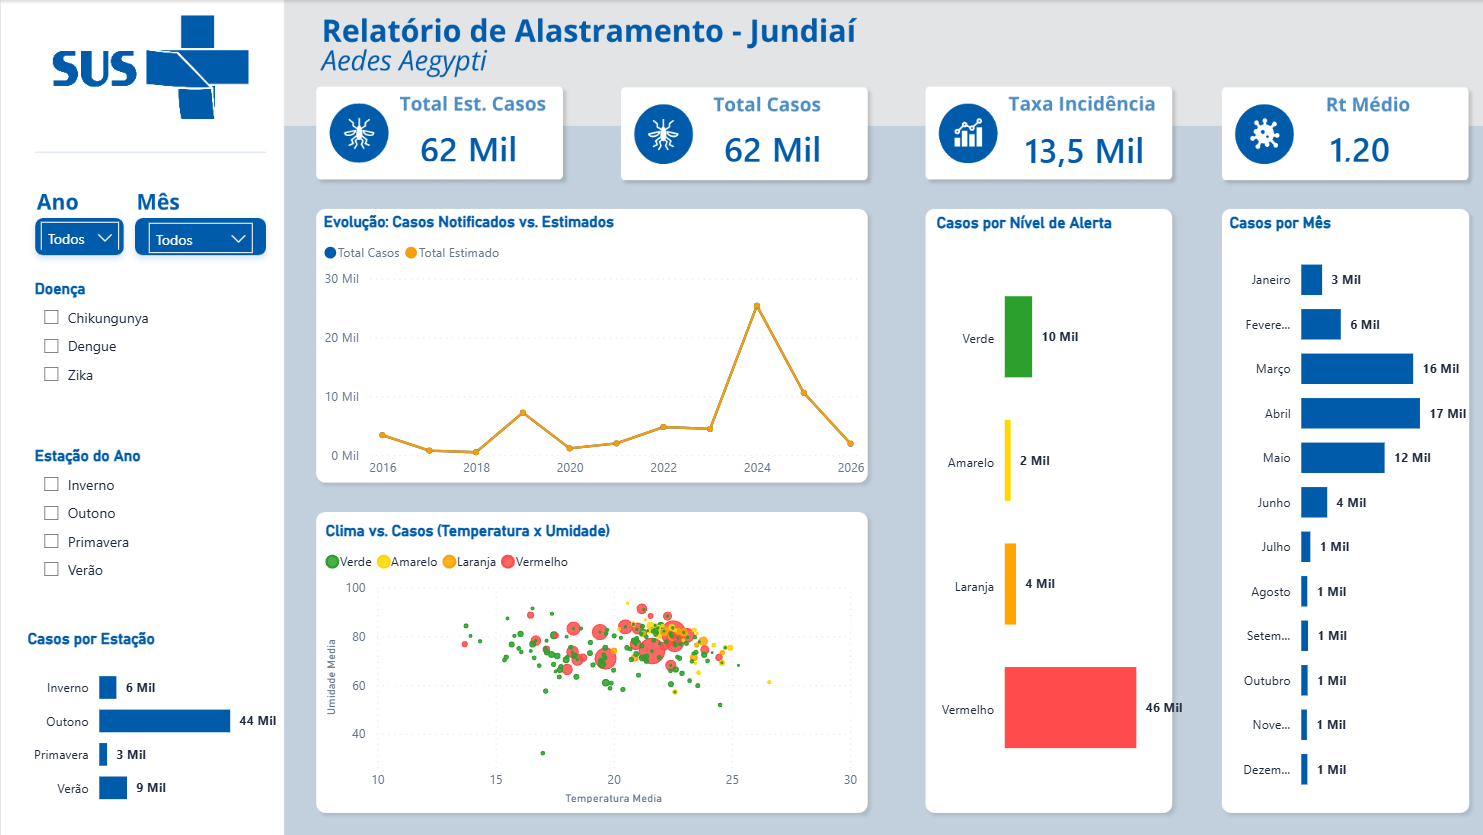

This screenshot's page, from the dashboard's own definition file:
{"tool":"powerbi","page":{"name":"Página 1","canvas":[1280,720],"ordinal":0},"visuals":[{"type":"cardVisual","fields":{"Data":["_Medidas.Total Estimado"]},"box":[328.8,94.2,150.3,61.6],"z":1000},{"type":"cardVisual","fields":{"Data":["_Medidas.Total Casos"]},"box":[588.7,93.3,150.3,62.5],"z":2000},{"type":"cardVisual","fields":{"Data":["_Medidas.Taxa Incidencia 100k"]},"box":[857.7,97.8,144,54.3],"z":3000},{"type":"cardVisual","fields":{"Data":["_Medidas.Rt Medio"]},"box":[1105.8,93.3,150.3,62.5],"z":4000},{"type":"slicer","fields":{"Values":["dim_tempo.ano"]},"box":[23.5,179.3,86.9,33.5],"z":5000},{"type":"slicer","fields":{"Values":["dim_tempo.nome_mes"]},"box":[115.9,180.2,108.7,38],"z":5500},{"type":"slicer","title":"Doença","fields":{"Values":["dim_doenca.nome_doenca"]},"box":[23.5,239.1,185.7,125.9],"z":5800},{"type":"slicer","title":"Estação do Ano","fields":{"Values":["dim_tempo.estacao_ano"]},"box":[23.5,382,185.7,142],"z":5900},{"type":"lineChart","title":"Evolução: Casos Notificados vs. Estimados","fields":{"Category":["dim_tempo.data_inicio_semana.Variation.Hierarquia de datas.Ano","dim_tempo.data_inicio_semana.Variation.Hierarquia de datas.Trimestre","dim_tempo.data_inicio_semana.Variation.Hierarquia de datas.Mês","dim_tempo.data_inicio_semana.Variation.Hierarquia de datas.Dia"],"Y":["_Medidas.Total Casos","_Medidas.Total Estimado"]},"box":[270.8,182,471.8,235.5],"z":6000},{"type":"scatterChart","title":"Clima vs. Casos (Temperatura x Umidade)","fields":{"Category":["dim_tempo.ano_mes"],"Series":["dim_alerta.status_alerta_nome"],"Size":["_Medidas.Total Casos"],"X":["_Medidas.Temperatura Media"],"Y":["_Medidas.Umidade Media"]},"box":[272.6,445.6,463.7,245.4],"z":7000},{"type":"barChart","title":"Casos por Nível de Alerta","fields":{"Category":["dim_alerta.status_alerta_nome"],"Y":["_Medidas.Total Casos"]},"box":[794.3,182.9,220.1,508.1],"z":8000},{"type":"barChart","title":"Casos por Mês","fields":{"Category":["dim_tempo.nome_mes"],"Y":["_Medidas.Total Casos"]},"box":[1044.2,182.9,211.9,508.1],"z":9000},{"type":"barChart","title":"Casos por Estação","fields":{"Category":["dim_tempo.estacao_ano"],"Y":["_Medidas.Total Casos"]},"box":[18.1,538,222.8,162.1],"z":9500}]}

Visuals, with their boxes in screenshot pixels (x1, y1, x2, y2), scaled from the page's 1280x720 canvas onto the 1483x835 screenshot:
cardVisual - _Medidas.Total Estimado: {"left": 381, "top": 109, "right": 555, "bottom": 181}
cardVisual - _Medidas.Total Casos: {"left": 682, "top": 108, "right": 856, "bottom": 181}
cardVisual - _Medidas.Taxa Incidencia 100k: {"left": 994, "top": 113, "right": 1161, "bottom": 176}
cardVisual - _Medidas.Rt Medio: {"left": 1281, "top": 108, "right": 1455, "bottom": 181}
slicer - dim_tempo.ano: {"left": 27, "top": 208, "right": 128, "bottom": 247}
slicer - dim_tempo.nome_mes: {"left": 134, "top": 209, "right": 260, "bottom": 253}
"Doença" slicer: {"left": 27, "top": 277, "right": 242, "bottom": 423}
"Estação do Ano" slicer: {"left": 27, "top": 443, "right": 242, "bottom": 608}
"Evolução: Casos Notificados vs. Estimados" lineChart: {"left": 314, "top": 211, "right": 860, "bottom": 484}
"Clima vs. Casos (Temperatura x Umidade)" scatterChart: {"left": 316, "top": 517, "right": 853, "bottom": 801}
"Casos por Nível de Alerta" barChart: {"left": 920, "top": 212, "right": 1175, "bottom": 801}
"Casos por Mês" barChart: {"left": 1210, "top": 212, "right": 1455, "bottom": 801}
"Casos por Estação" barChart: {"left": 21, "top": 624, "right": 279, "bottom": 812}
